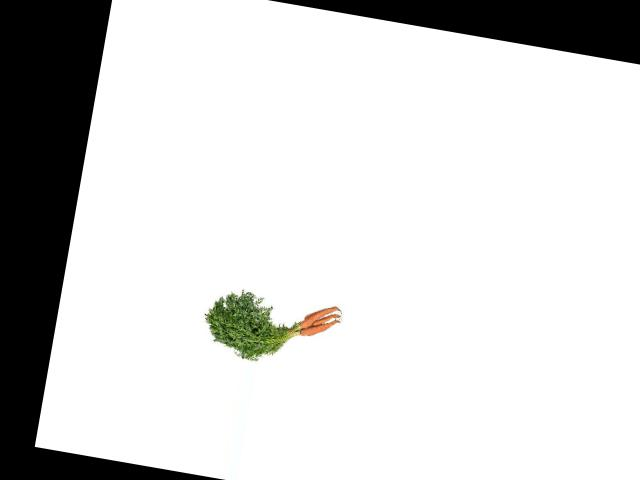carrot: (296, 300, 336, 332)
